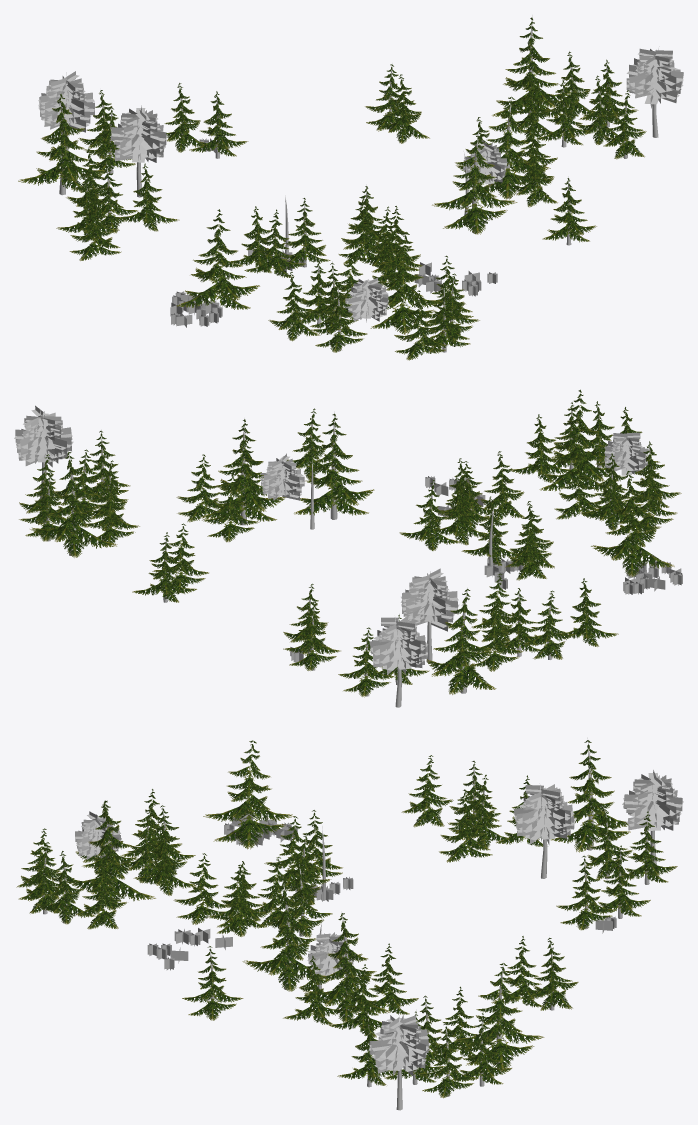
The model's file is trees1.obj.
3 renders of one model, top to bottom at view 1: azimuth 30°, elevation 25°; view 2: azimuth 150°, elevation 25°; view 3: azimuth 270°, elevation 25°, orthographic. The views are drawn at different scales.
Parts seen in each view (by area): view 1: Green_elka.043_Plane.001, Green_elka.111_Plane.001, Green_sosna.012_Plane.001, Green_sosna.018_Plane.001, Green_elka.076_Plane.001, Green_elka.080_Plane.001, Green_sosna.015_Plane.001, Green_elka.023_Plane.001, Green_elka.016_Plane.001, Green_sosna.021_Plane.001, Green_elka.104_Plane.001, Green_elka.083_Plane.001 (+35 smaller); view 2: Green_elka.076_Plane.001, Green_elka.111_Plane.001, Green_elka.023_Plane.001, Green_elka.043_Plane.001, Green_sosna.015_Plane.001, Green_sosna.012_Plane.001, Green_sosna.018_Plane.001, Green_elka.080_Plane.001, Green_elka.016_Plane.001, Green_sosna.013_Plane.001, Green_sosna.021_Plane.001, Green_elka.056_Plane.001 (+34 smaller); view 3: Green_elka.111_Plane.001, Green_sosna.018_Plane.001, Green_sosna.012_Plane.001, Green_elka.043_Plane.001, Green_sosna.015_Plane.001, Green_elka.023_Plane.001, Green_elka.076_Plane.001, Green_elka.080_Plane.001, Green_elka.016_Plane.001, Green_elka.018_Plane.001, Green_elka.108_Plane.001, Green_elka.028_Plane.001 (+34 smaller).
Boxes of the visible parts, <box> form: Green_elka.043_Plane.001: <box>432,132,517,234</box>; Green_elka.111_Plane.001: <box>177,209,259,309</box>; Green_sosna.012_Plane.001: <box>626,48,683,108</box>; Green_sosna.018_Plane.001: <box>110,105,167,165</box>; Green_elka.076_Plane.001: <box>18,94,110,191</box>; Green_elka.080_Plane.001: <box>370,232,442,334</box>; Green_sosna.015_Plane.001: <box>38,71,95,132</box>; Green_elka.023_Plane.001: <box>492,17,569,117</box>; Green_elka.016_Plane.001: <box>484,97,550,199</box>; Green_sosna.021_Plane.001: <box>345,277,388,322</box>; Green_elka.104_Plane.001: <box>69,191,121,260</box>; Green_elka.083_Plane.001: <box>311,282,367,352</box>; Green_elka.076_Plane.001: <box>426,589,496,694</box>; Green_elka.111_Plane.001: <box>591,471,674,576</box>; Green_elka.023_Plane.001: <box>30,452,117,557</box>; Green_elka.043_Plane.001: <box>294,413,374,515</box>; Green_sosna.015_Plane.001: <box>369,616,427,674</box>; Green_sosna.012_Plane.001: <box>14,405,73,467</box>; Green_sosna.018_Plane.001: <box>400,568,459,631</box>; Green_elka.080_Plane.001: <box>539,389,610,491</box>; Green_elka.016_Plane.001: <box>201,419,285,521</box>; Green_sosna.013_Plane.001: <box>260,453,304,500</box>; Green_sosna.021_Plane.001: <box>604,432,648,475</box>; Green_elka.056_Plane.001: <box>283,601,340,670</box>; Green_elka.111_Plane.001: <box>203,740,294,849</box>; Green_sosna.018_Plane.001: <box>513,784,574,844</box>; Green_sosna.012_Plane.001: <box>368,1015,429,1075</box>; Green_elka.043_Plane.001: <box>242,881,334,991</box>; Green_sosna.015_Plane.001: <box>622,770,683,830</box>; Green_elka.023_Plane.001: <box>454,963,544,1071</box>; Green_elka.076_Plane.001: <box>550,740,630,852</box>; Green_elka.080_Plane.001: <box>67,800,155,910</box>; Green_elka.016_Plane.001: <box>303,913,390,1022</box>; Green_elka.018_Plane.001: <box>182,946,243,1020</box>; Green_elka.108_Plane.001: <box>439,789,492,862</box>; Green_elka.028_Plane.001: <box>418,1023,477,1098</box>.
Bounding box in the file's own units: 42.78 × 7.18 × 39.26.
